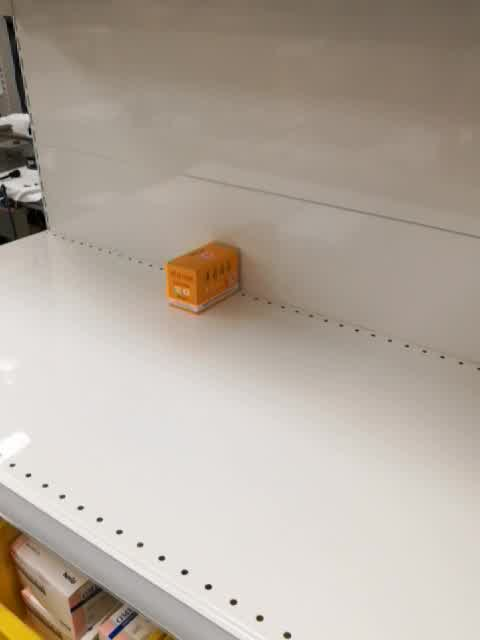jasminetea: (164, 241, 242, 316)
